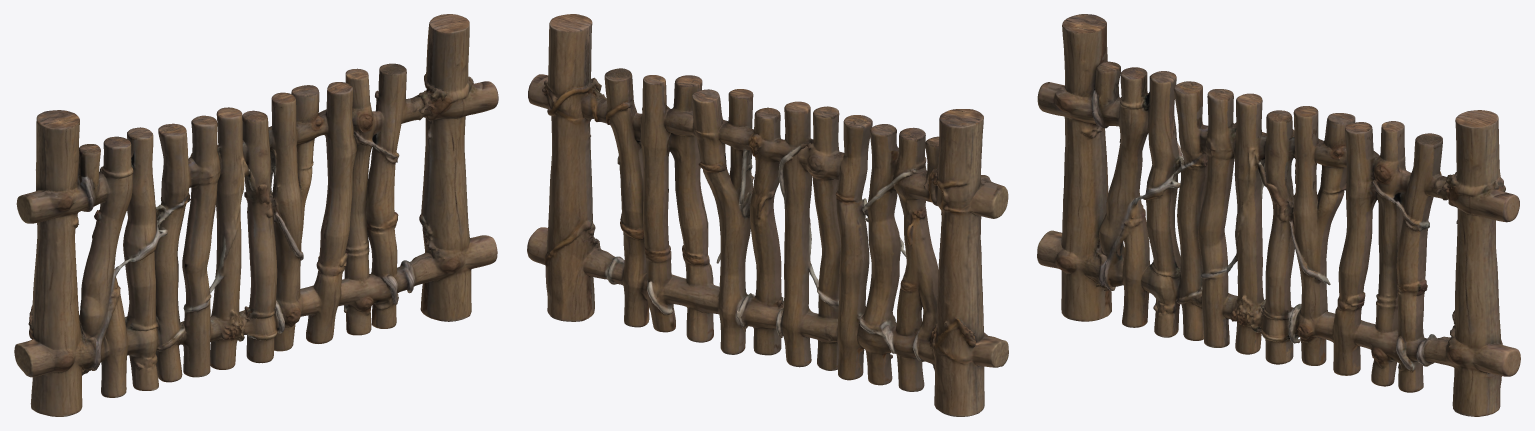
File: flechtzaun_original.glb
The picture shows the model from 3 angles, left to right: view 1: azimuth 30°, elevation 25°; view 2: azimuth 150°, elevation 25°; view 3: azimuth 330°, elevation 25°; orthographic projection.
Size of the model in its own units: 2 by 1.18 by 0.239.
1 material, 1 textured.
